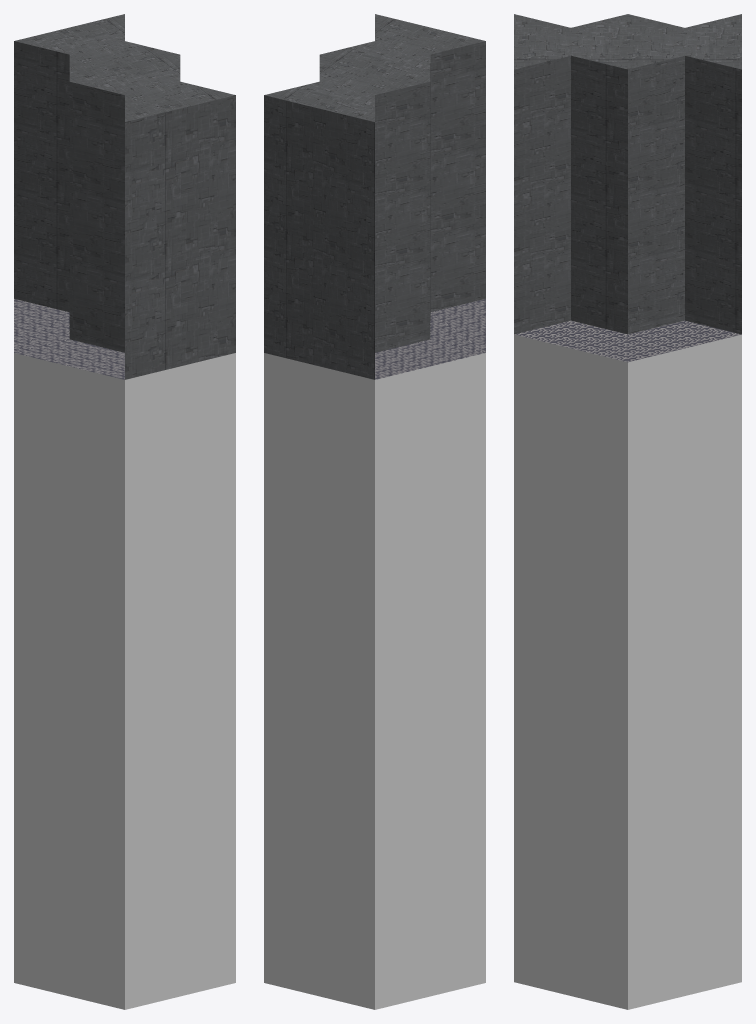
The model's file is Hex_Tall_16 2.fbx.
3 renders of one model, left to right at view 1: azimuth 30°, elevation 25°; view 2: azimuth 150°, elevation 25°; view 3: azimuth 270°, elevation 25°, orthographic. The views are drawn at different scales.
Parts seen in each view (by area): view 1: TileHex16; view 2: TileHex16; view 3: TileHex16.
Part boxes in pixels (x1,y1,x2,y2): TileHex16: (14,14,235,1009); TileHex16: (264,14,485,1009); TileHex16: (514,14,741,1009).
Bounding box in the file's own units: 118 × 450 × 102.
Materials: 3 (2 with a texture image).
